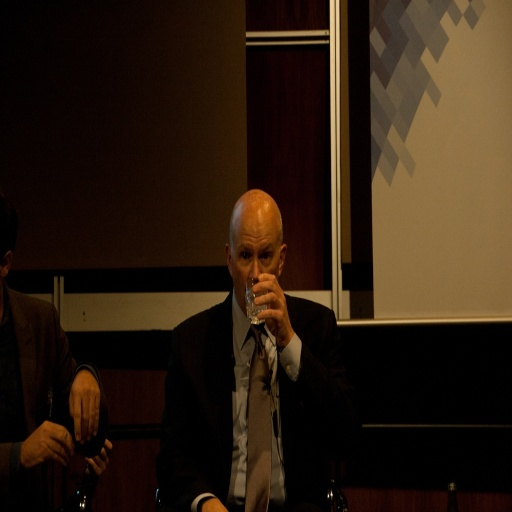hand: (57, 373, 94, 457), (251, 272, 292, 343), (19, 417, 74, 465), (84, 439, 114, 487), (198, 499, 229, 511)
